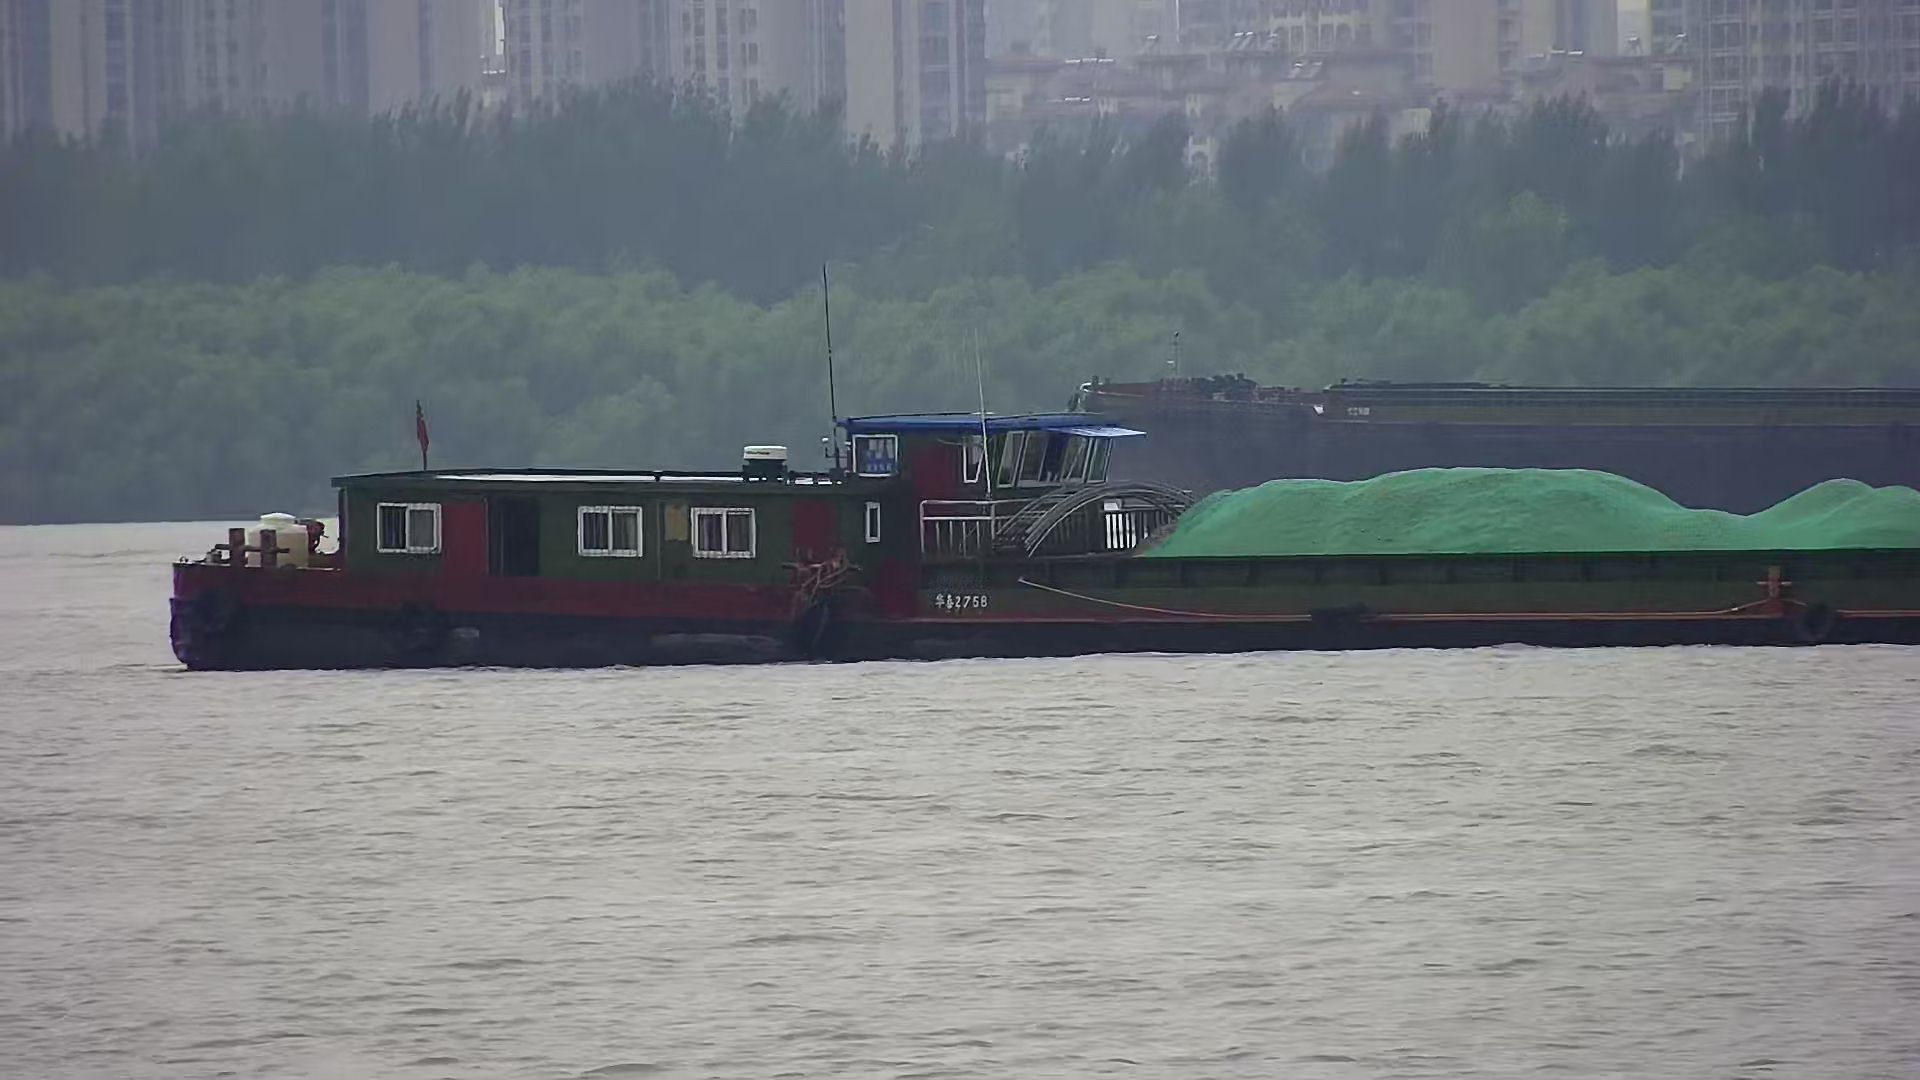ship: (170, 265, 1920, 670), (1083, 348, 1920, 520)
